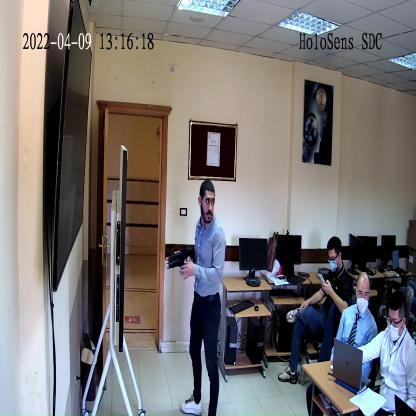handgun: (165, 243, 197, 277)
